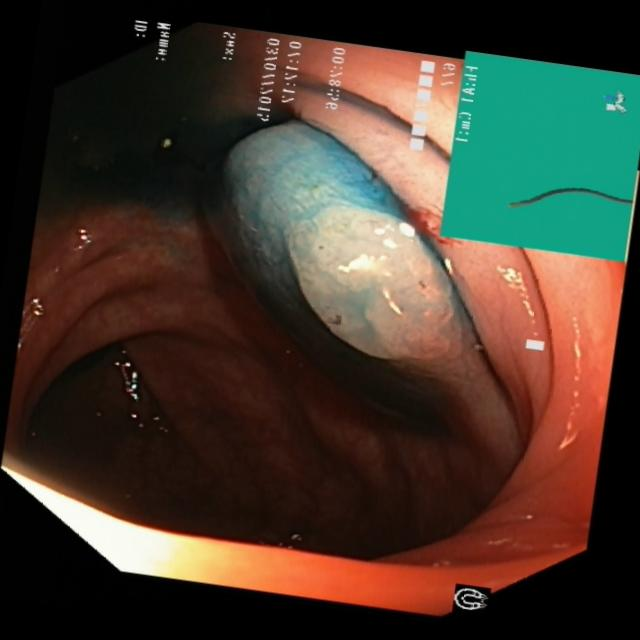dyed-lifted-polyps: (208, 119, 492, 373)
